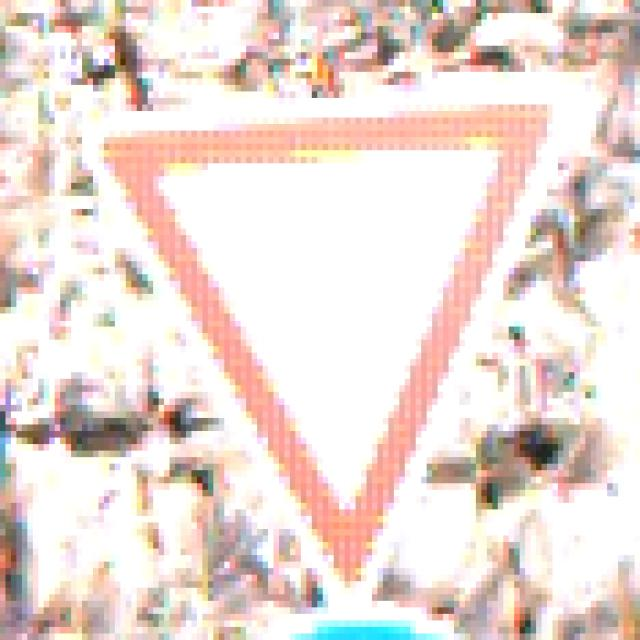Give Way: (61, 60, 581, 589)
